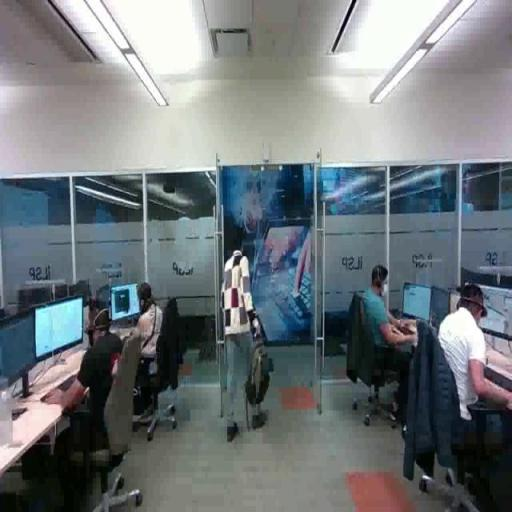person: (219, 227, 270, 444)
